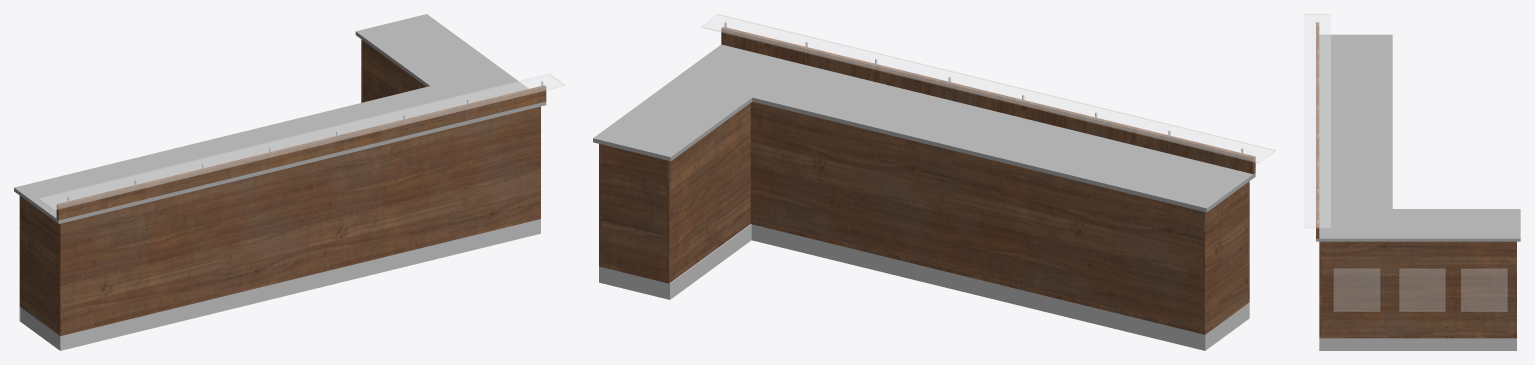
Rendered from reception-desk.glb.
3 views of the same model, side by side, from view 1: azimuth 30°, elevation 25°; view 2: azimuth 150°, elevation 25°; view 3: azimuth 270°, elevation 25° (orthographic). The views are drawn at different scales.
Visible parts, largest first — view 1: DeskLegno, Top, vidrio, Base.001; view 2: DeskLegno, Top, Base.001, vidrio; view 3: DeskLegno, Top, vidrio, Base.001, Box002, Box003, Box001.
Boxes of the visible parts, x1,y1,x2,y2 form: DeskLegno: (19,39,546,335); Top: (14,14,546,223); vidrio: (38,74,564,210); Base.001: (19,219,540,350); DeskLegno: (599,27,1255,334); Top: (593,44,1255,212); Base.001: (599,224,1249,350); vidrio: (701,14,1275,163); DeskLegno: (1316,22,1516,338); Top: (1316,34,1520,241); vidrio: (1304,14,1330,227); Base.001: (1319,338,1516,350); Box002: (1399,269,1445,311); Box003: (1461,269,1507,311); Box001: (1334,269,1379,311).
Bounding box in the file's own units: 4.35 × 1.24 × 1.86.
4 materials, 1 textured.
